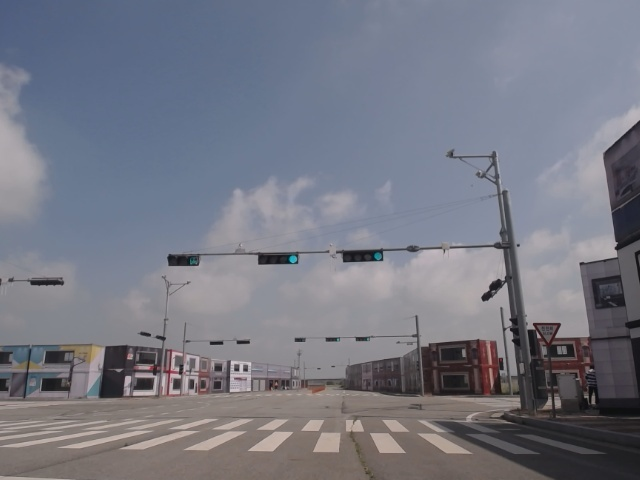straight_green_4: (343, 250, 384, 262), (258, 253, 300, 264)
